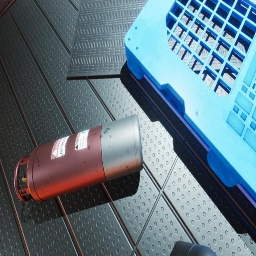NitrogenTank ,: (14, 114, 143, 202)
